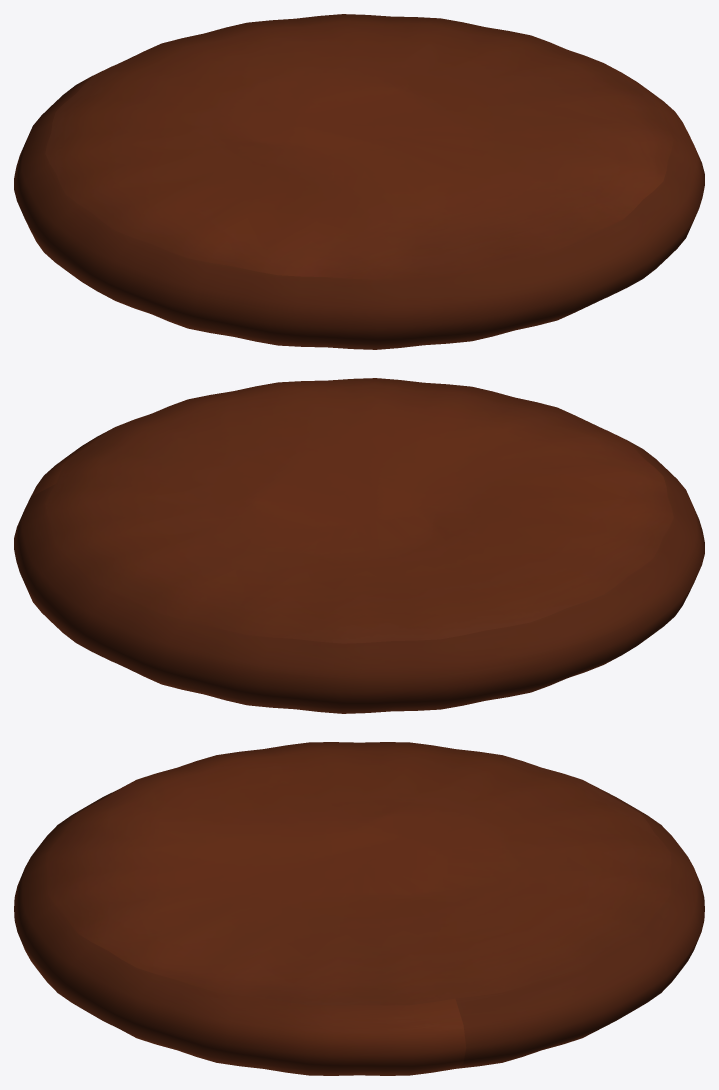
The model's file is Meat.obj.
3 views of the same model, one above another, from view 1: azimuth 30°, elevation 25°; view 2: azimuth 150°, elevation 25°; view 3: azimuth 270°, elevation 25° (orthographic).
Visible parts, largest first — view 1: pasted__polySurface25 pasted__polySurface18 group13; view 2: pasted__polySurface25 pasted__polySurface18 group13; view 3: pasted__polySurface25 pasted__polySurface18 group13.
Part boxes in pixels (x1=…): pasted__polySurface25 pasted__polySurface18 group13: x1=14, y1=14, x2=704, y2=349; pasted__polySurface25 pasted__polySurface18 group13: x1=14, y1=378, x2=704, y2=713; pasted__polySurface25 pasted__polySurface18 group13: x1=14, y1=742, x2=704, y2=1075.
Bounding box in the file's own units: 1.92 × 0.3141 × 1.92.
1 material, 1 textured.
